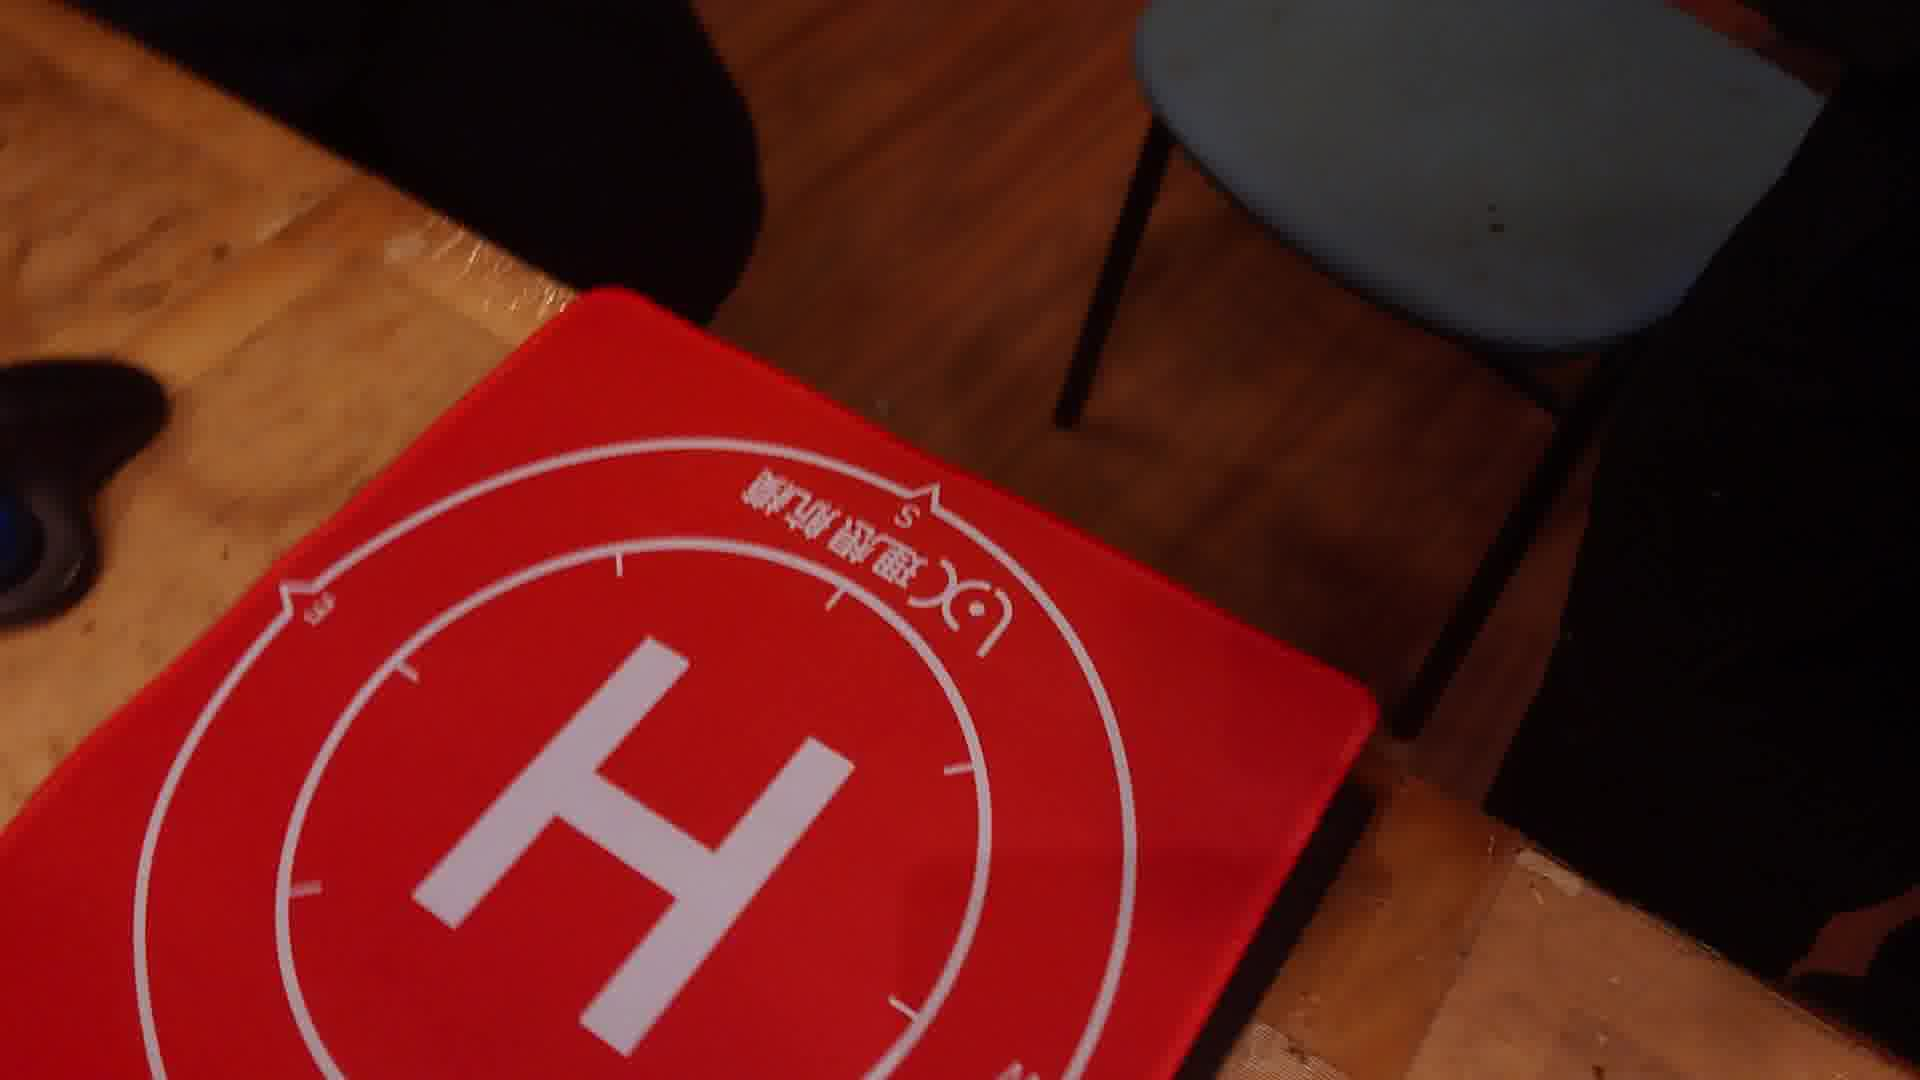H: (410, 632, 856, 1058)
